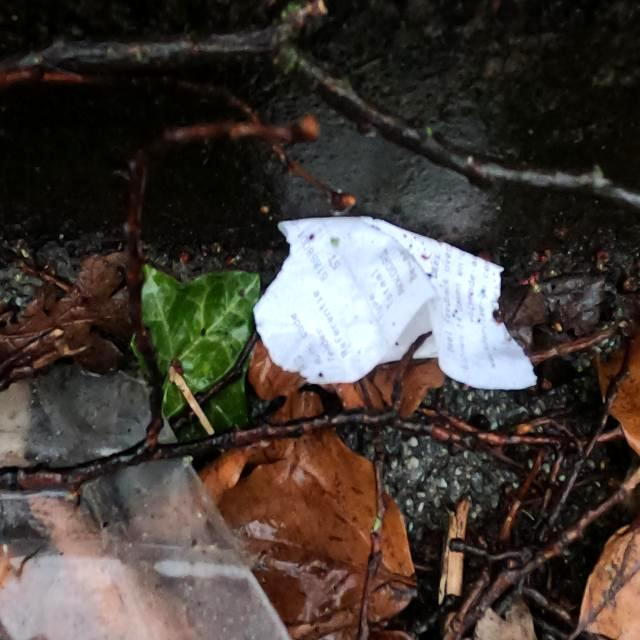Paper: (252, 211, 536, 395)
